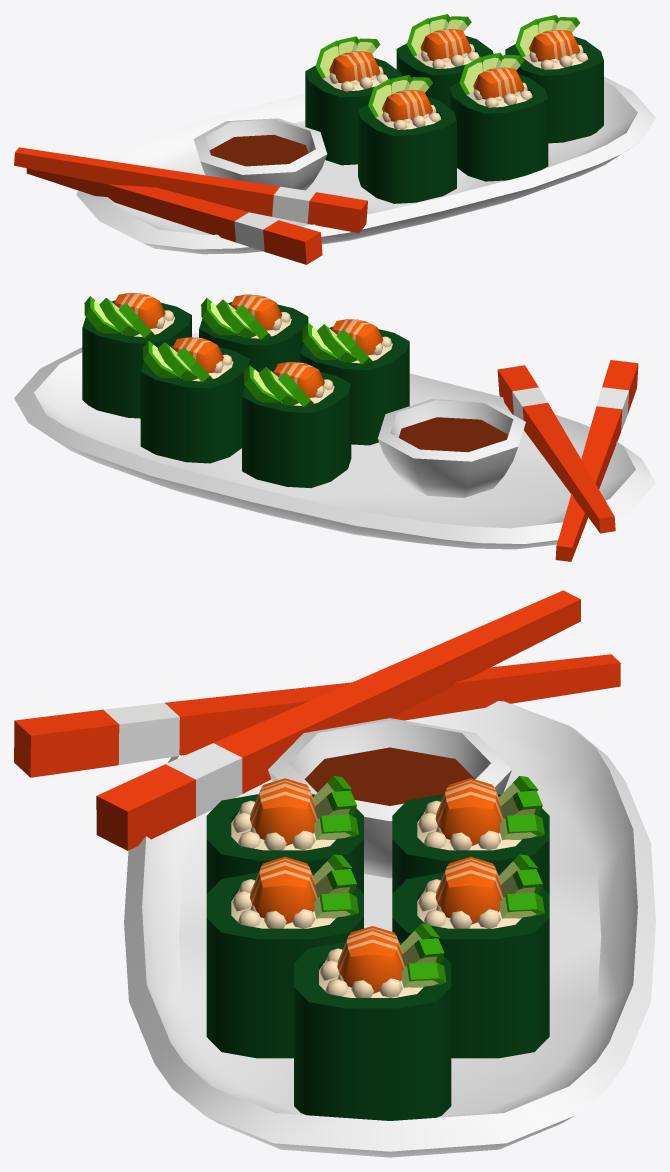
File: Sushi_01.fbx
The picture shows the model from 3 angles, top to bottom: view 1: azimuth 30°, elevation 25°; view 2: azimuth 150°, elevation 25°; view 3: azimuth 270°, elevation 25°; orthographic projection. The views are drawn at different scales.
Visible parts, largest first — view 1: Sushi_01, Sushi_01_Chopsticks, Sushi_01_Soya, Sushi_01_Fish; view 2: Sushi_01, Sushi_01_Soya, Sushi_01_Chopsticks, Sushi_01_Fish; view 3: Sushi_01, Sushi_01_Chopsticks, Sushi_01_Soya, Sushi_01_Fish.
Part boxes in pixels (x1,y1,x2,y2): Sushi_01: (76,14,655,254); Sushi_01_Chopsticks: (14,147,367,264); Sushi_01_Soya: (193,118,327,190); Sushi_01_Fish: (329,29,580,121); Sushi_01: (14,296,655,549); Sushi_01_Soya: (377,399,525,497); Sushi_01_Chopsticks: (497,360,638,561); Sushi_01_Fish: (114,293,383,397); Sushi_01: (124,701,655,1157); Sushi_01_Chopsticks: (14,590,620,850); Sushi_01_Soya: (268,718,511,878); Sushi_01_Fish: (250,778,503,993).
Size of the model in its own units: 106 by 19.34 by 58.77.
